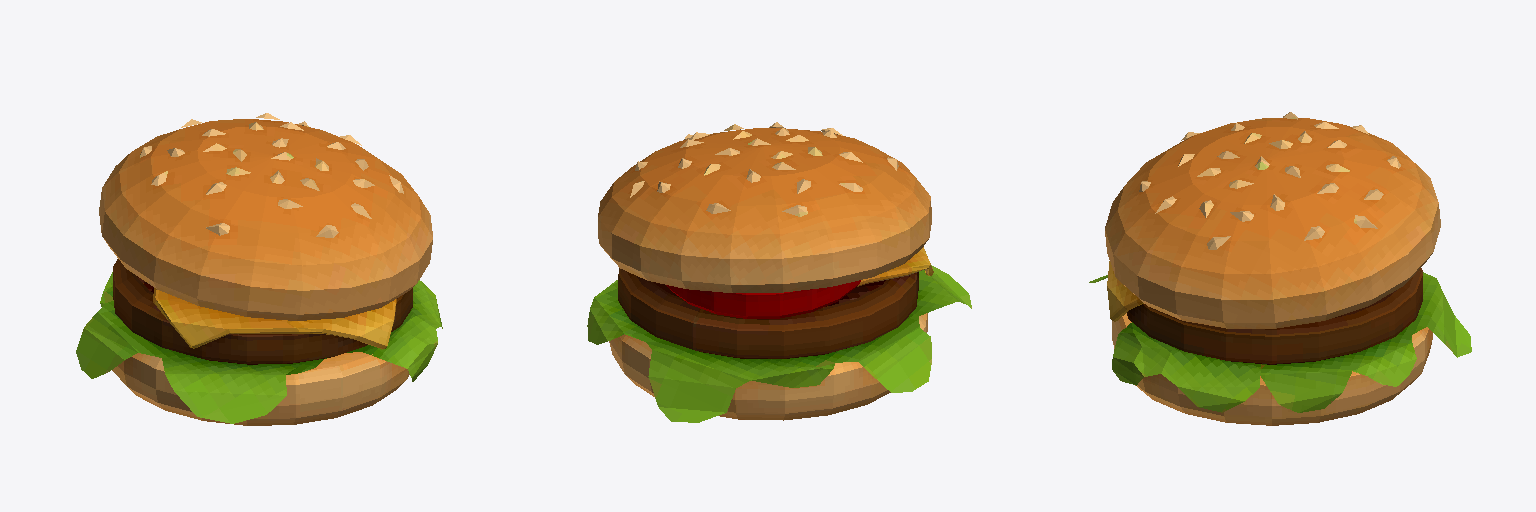
The picture shows the model from 3 angles: view 1: azimuth 30°, elevation 25°; view 2: azimuth 150°, elevation 25°; view 3: azimuth 270°, elevation 25°; orthographic projection.
Parts seen in each view (by area): view 1: Hamburger; view 2: Hamburger; view 3: Hamburger.
Part boxes in pixels (bbox=[...]): Hamburger: bbox=[76, 113, 442, 425]; Hamburger: bbox=[587, 122, 971, 422]; Hamburger: bbox=[1089, 112, 1471, 425].
Size of the model in its own units: 0.2345 by 0.152 by 0.2403.
1 materials, 1 textured.